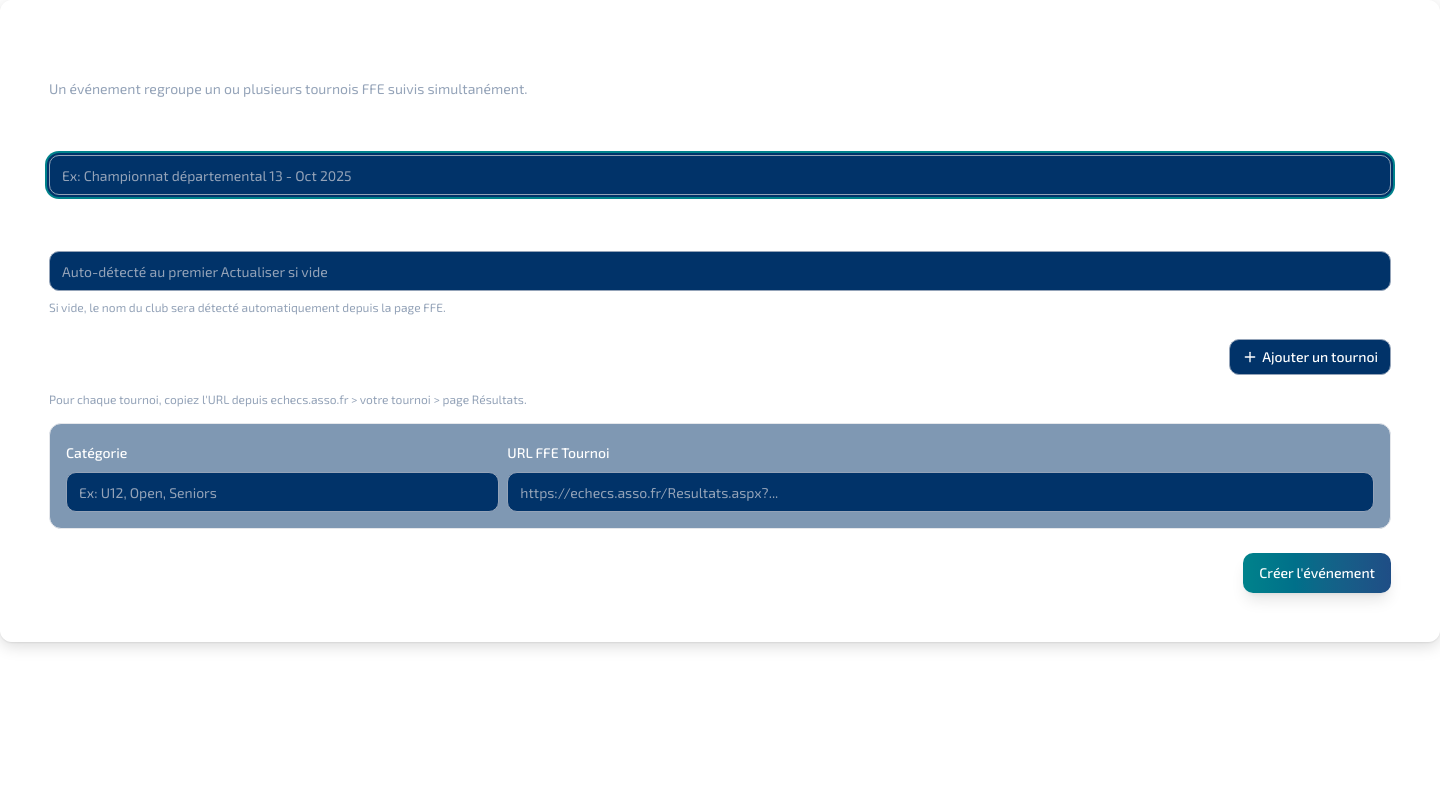
Test: EventForm › Field error cleanup on tournament removal › clears field errors when a tournament is removed
The image size is (1440, 810).
Click the button "Ajouter un tournoi" at (1310, 357), box [1229,339,1391,375]
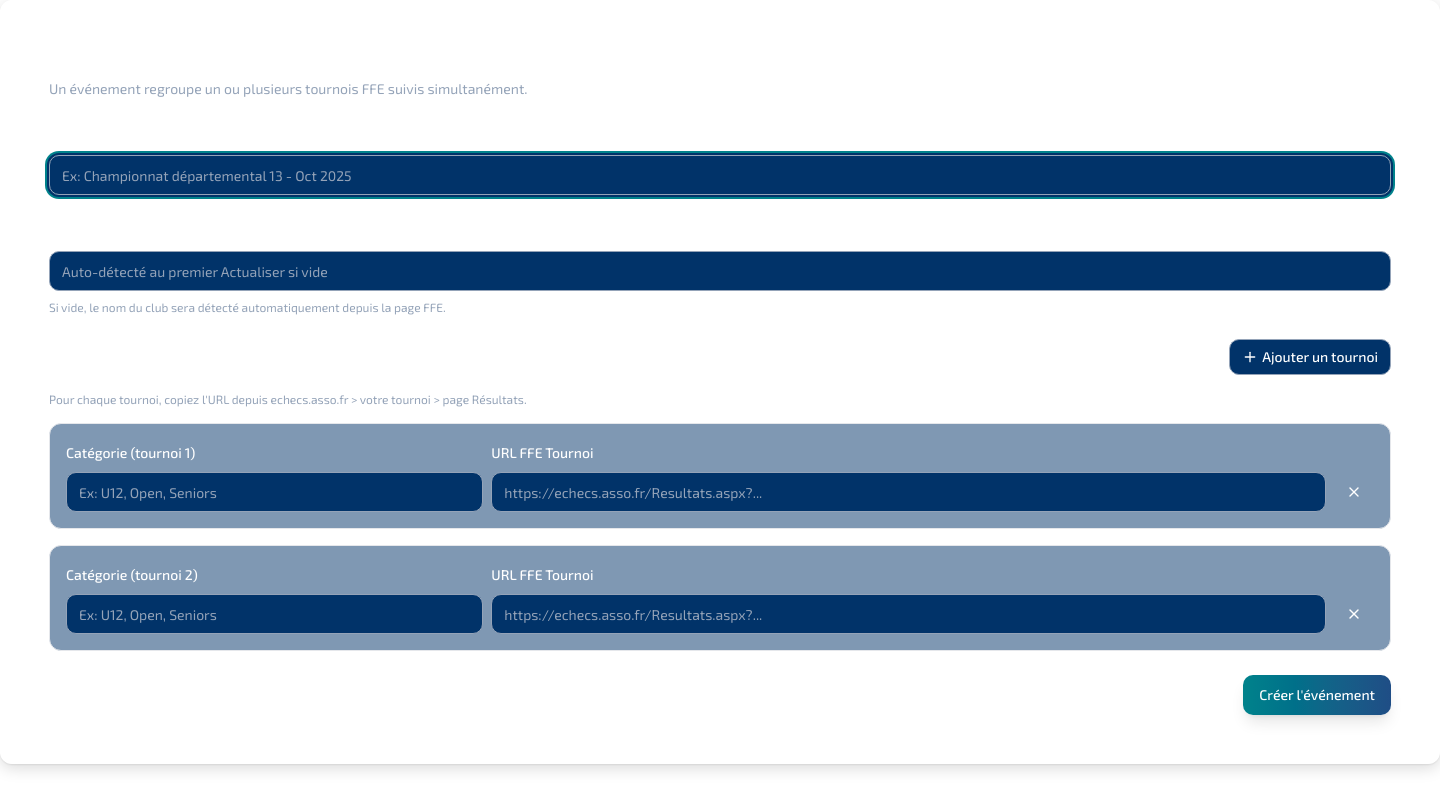
Trigger inline error on second tournament name
Type "A" into the field labelled "Catégorie (tournoi 2)" at (275, 614), box [66,594,483,634]
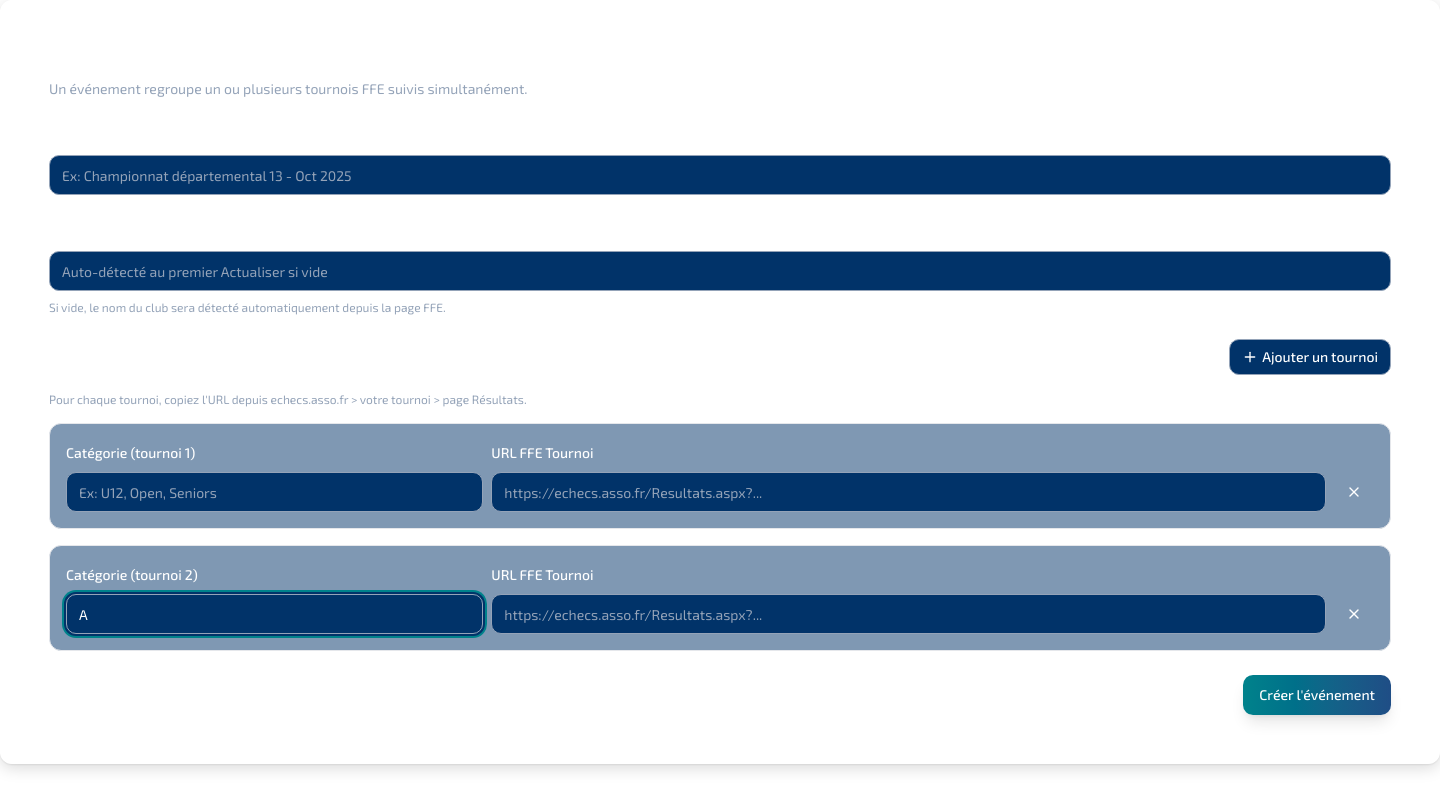
Press Tab
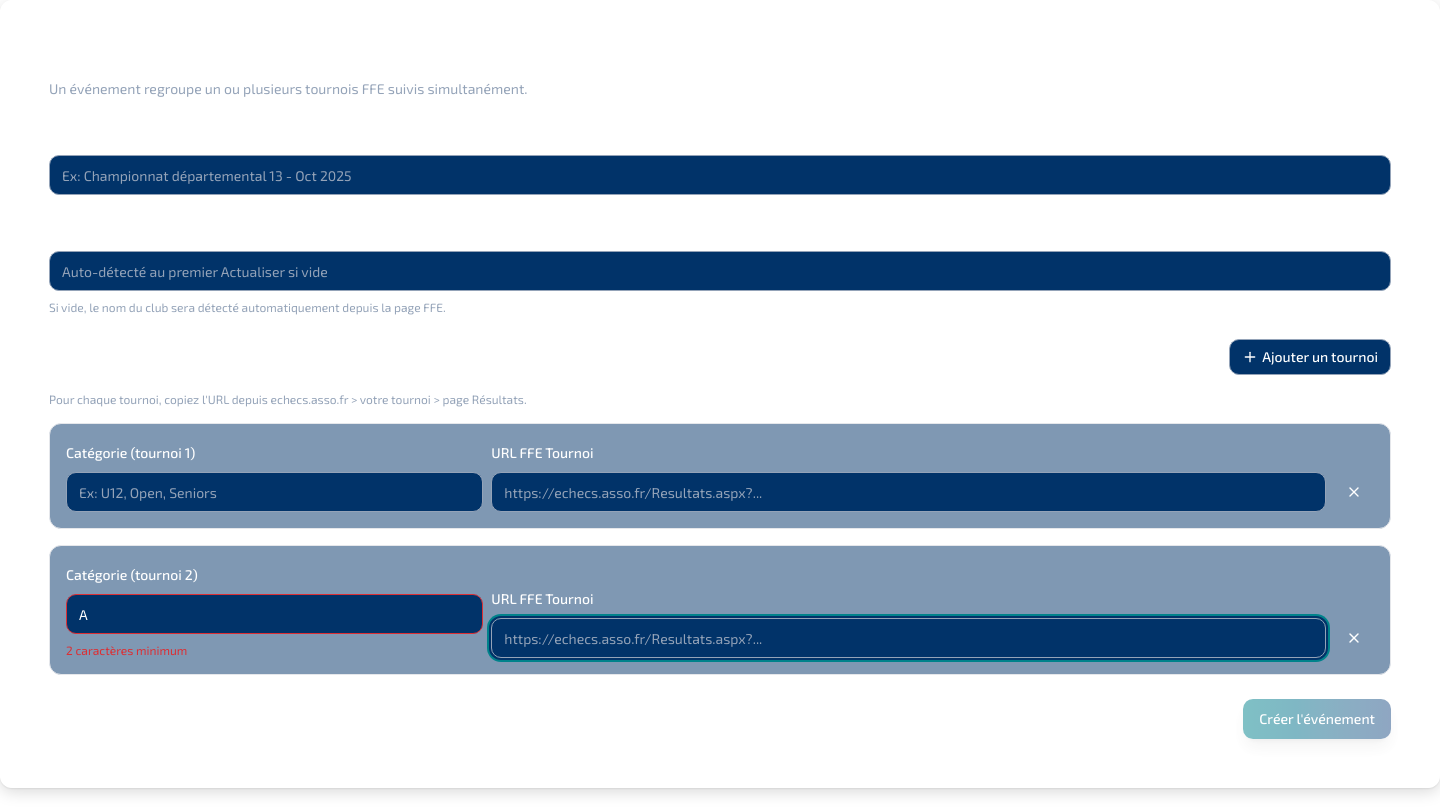
Now the text "2 caractères minimum" is shown, box [66,643,187,657]
Click the button without text in the row of "2 caractères minimum" at (1354, 638), box [1334,618,1374,658]
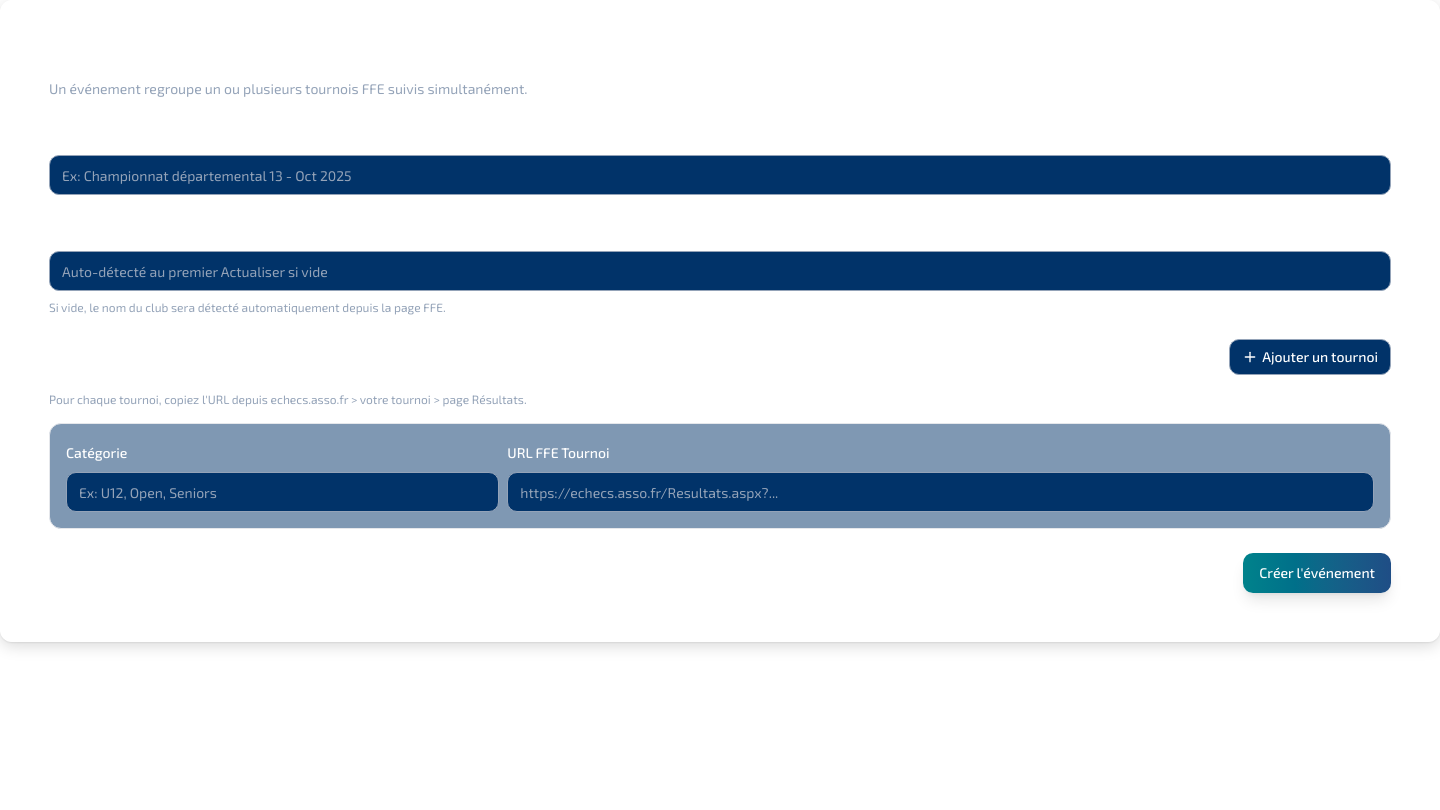
Now the text "2 caractères minimum" is gone
